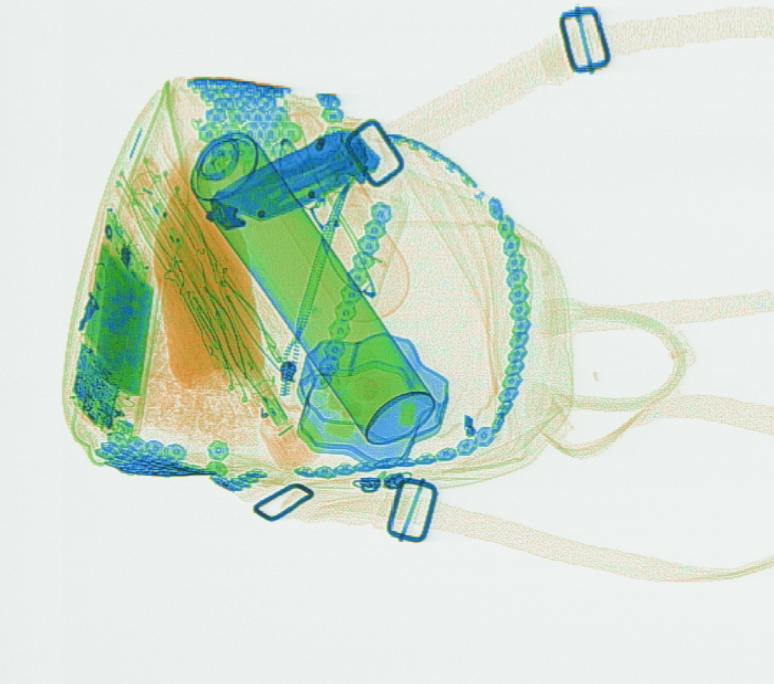knife: (207, 132, 385, 236)
lighter: (216, 324, 291, 437)
pressure: (188, 133, 440, 451)
